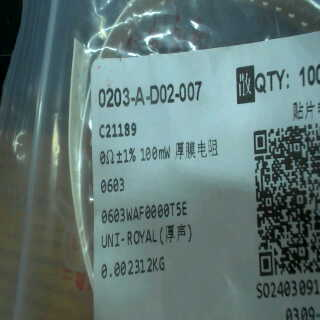0R: (96, 141, 178, 195)
